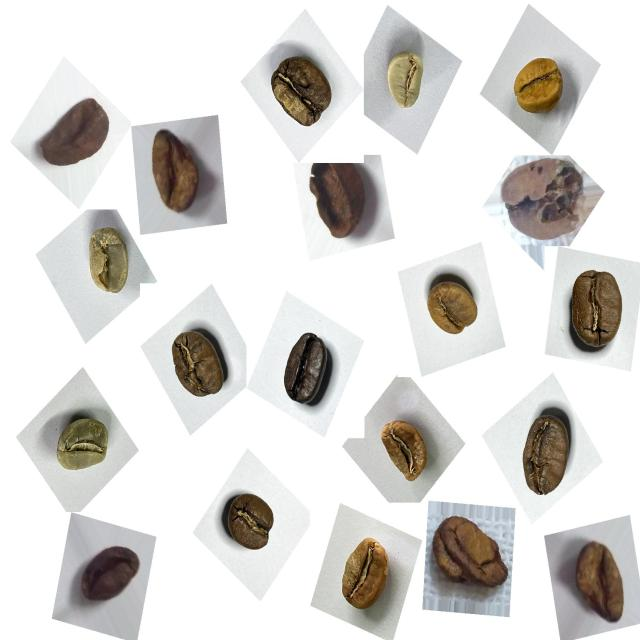bad: (424, 503, 517, 606), (499, 149, 588, 252), (32, 86, 119, 182), (558, 527, 634, 633), (302, 154, 381, 252), (142, 120, 214, 223), (73, 530, 150, 618)
green: (74, 218, 139, 308), (46, 404, 118, 485), (376, 39, 436, 120)
light: (326, 522, 400, 624), (413, 260, 489, 348), (502, 40, 576, 127), (371, 411, 438, 494)
medium: (258, 42, 342, 140), (559, 264, 638, 362), (508, 408, 582, 505), (161, 318, 238, 409), (272, 324, 340, 418), (215, 485, 284, 565)
